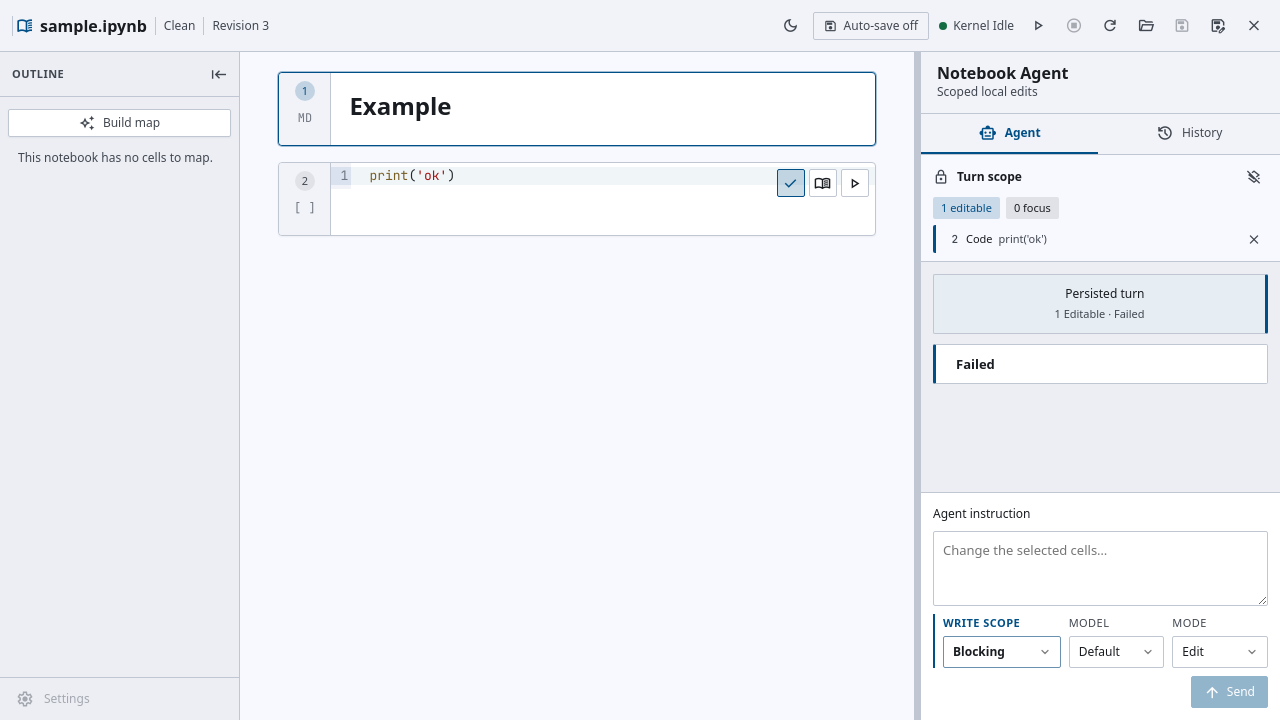
Test: Notebook editor › closes the current notebook and resets to the upload screen
Expected: the text "Persisted turn" is shown, [1065, 285, 1144, 303]
What coordinates should you click on to do the following:
click the button named "Close notebook"
I would click on:
 (1254, 26)
Its box is [1240, 12, 1268, 40].
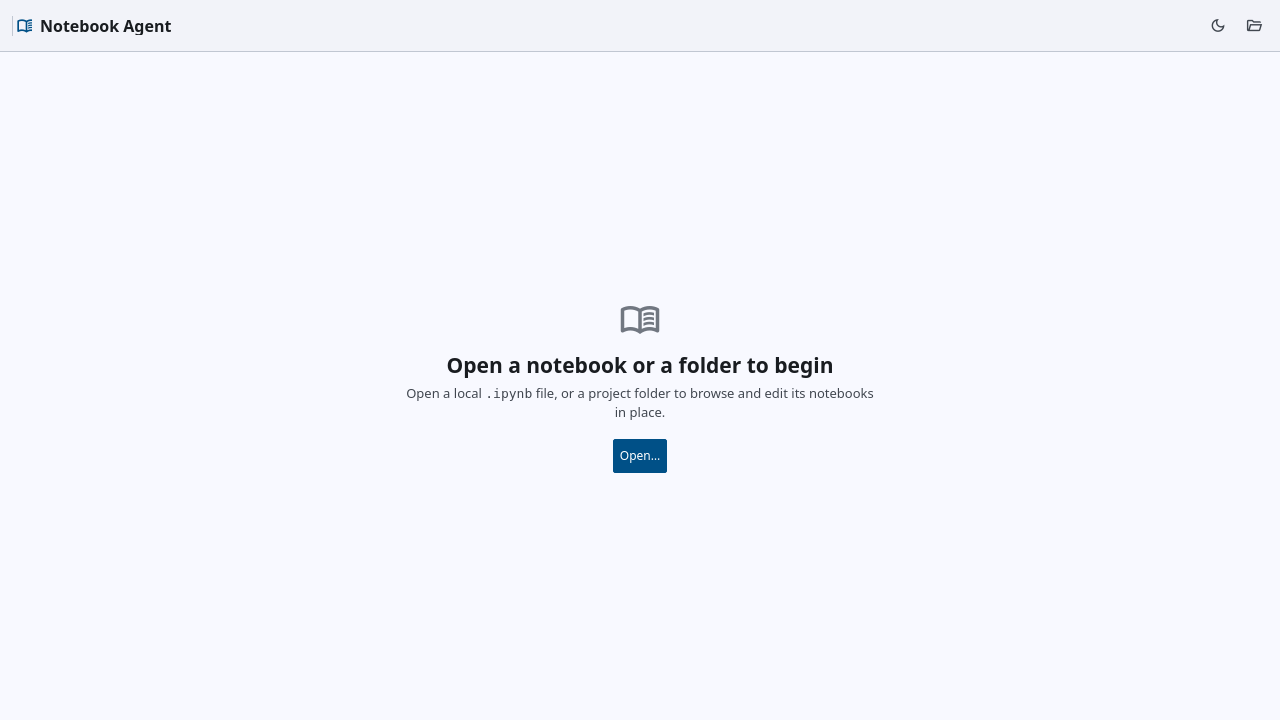
Now the heading "Open a notebook or a folder to begin" is shown, box [446, 356, 834, 374]
Now the button "Persisted turn" is gone
